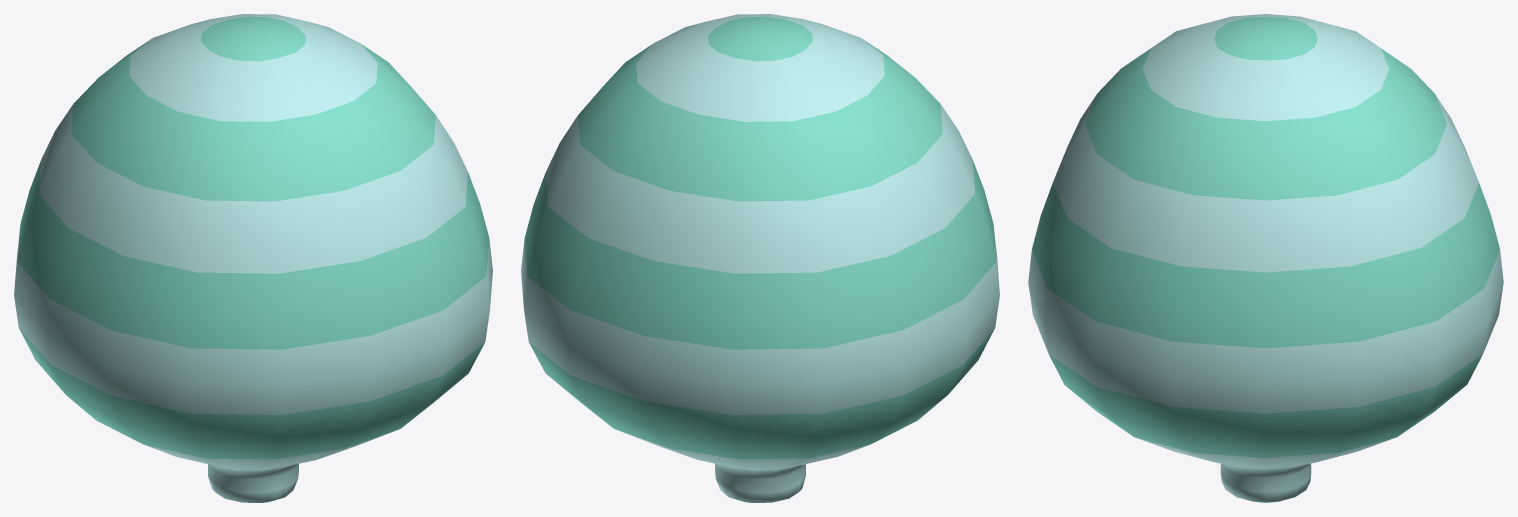
File: Egger_02.fbx
The picture shows the model from 3 angles, left to right: view 1: azimuth 30°, elevation 25°; view 2: azimuth 150°, elevation 25°; view 3: azimuth 270°, elevation 25°; orthographic projection.
Parts seen in each view (by area): view 1: Egger_02_LOD0; view 2: Egger_02_LOD0; view 3: Egger_02_LOD0.
Part boxes in pixels (x1,y1,x2,y2): Egger_02_LOD0: (14, 14, 492, 502); Egger_02_LOD0: (521, 14, 999, 502); Egger_02_LOD0: (1028, 14, 1503, 502).
Size of what is drawn, in the model's own units: 390 by 417 by 390.
